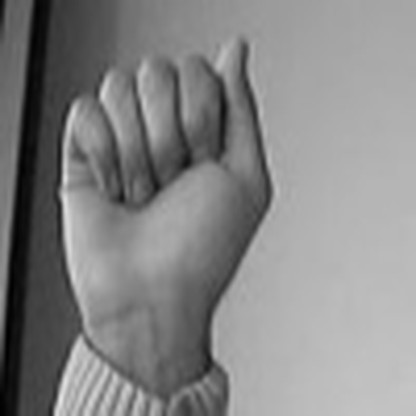a: (39, 30, 290, 301)
